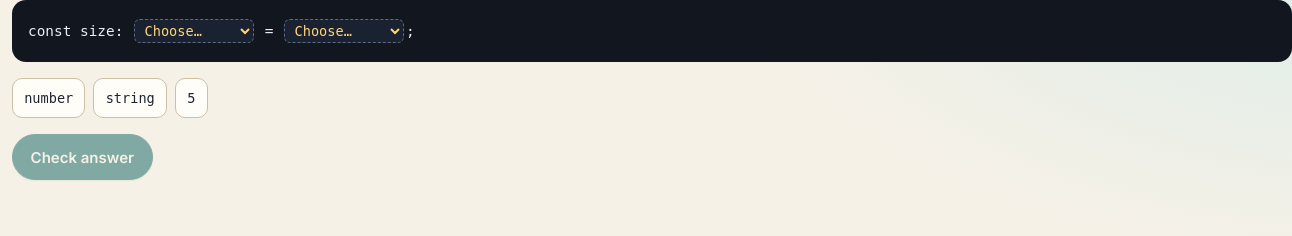
fill exercise token bank (B16f) › does not overwrite a filled blank when every blank is full
Select "number" in the dropdown named "Blank 1" at (194, 31), box [134,19,254,43]
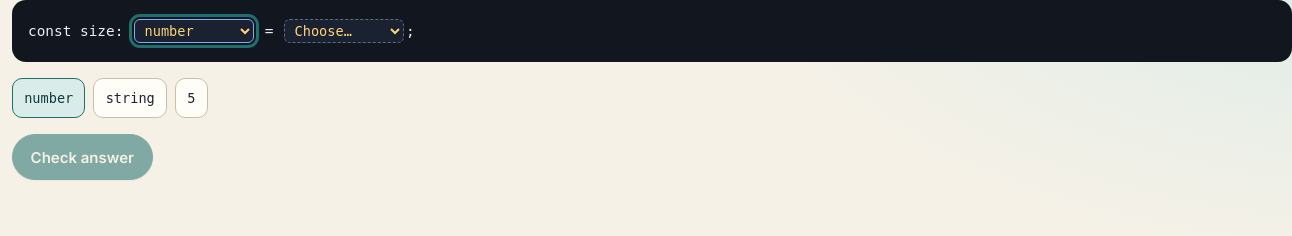
Select "5" in the dropdown named "Blank 2" at (344, 31), box [284,19,404,43]
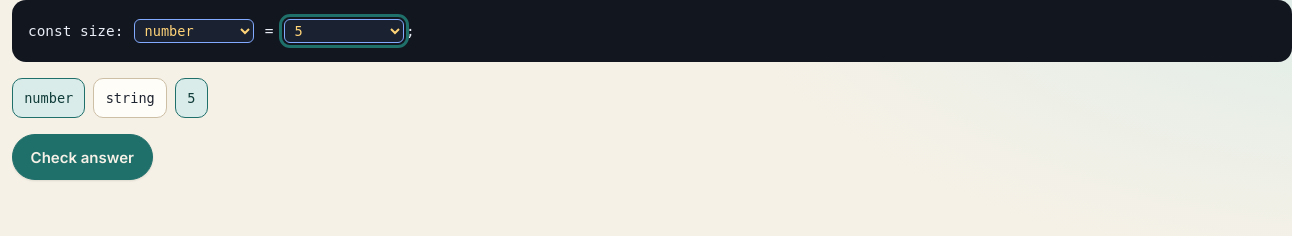
Click the button "string".
click(130, 98)  # box [94,78,167,118]
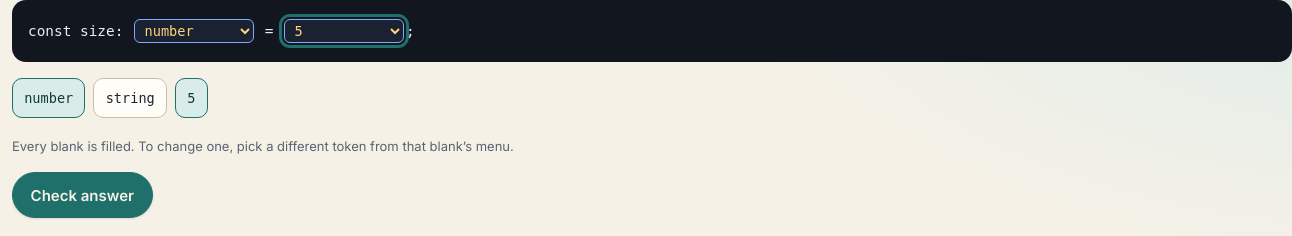
expect the text "Every blank is filled" is shown: met, box [12,138,514,154]
